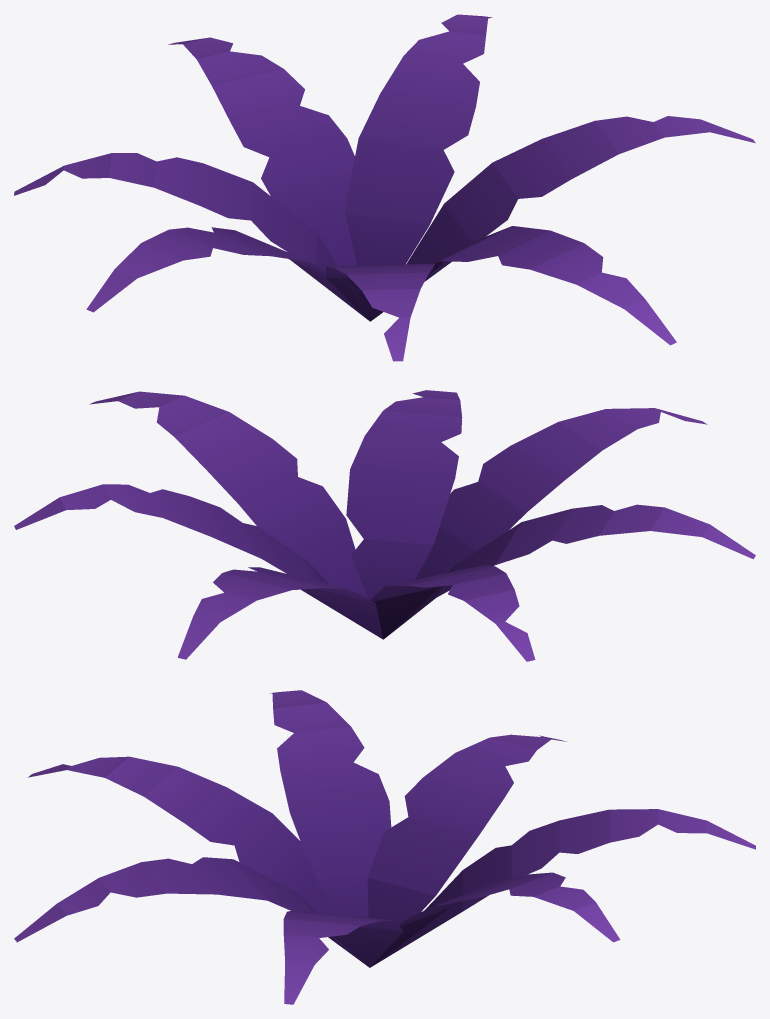
File: MagicFern.fbx
The picture shows the model from 3 angles, top to bottom: view 1: azimuth 30°, elevation 25°; view 2: azimuth 150°, elevation 25°; view 3: azimuth 270°, elevation 25°; orthographic projection. The views are drawn at different scales.
Visible parts, largest first — view 1: MagicFern; view 2: MagicFern; view 3: MagicFern.
Part boxes in pixels (bbox=[...]): MagicFern: bbox=[14, 14, 755, 361]; MagicFern: bbox=[14, 390, 755, 661]; MagicFern: bbox=[14, 690, 755, 1004].
Size of the model in its own units: 433 by 106 by 434.
